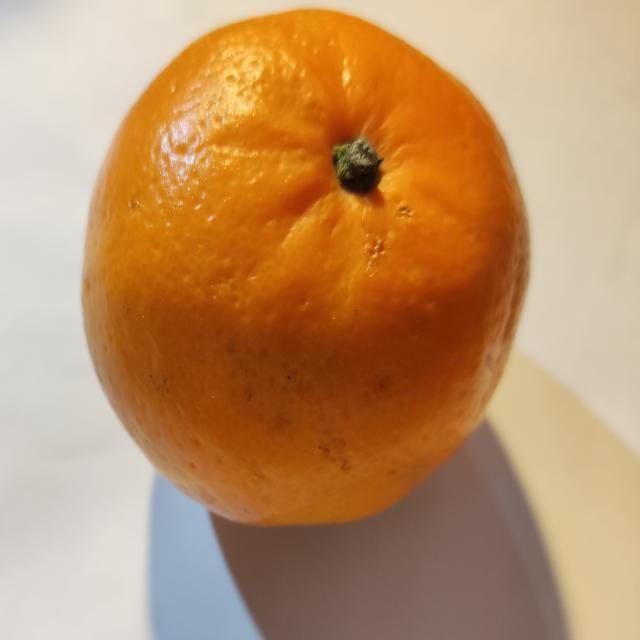orange: (83, 11, 528, 524)
